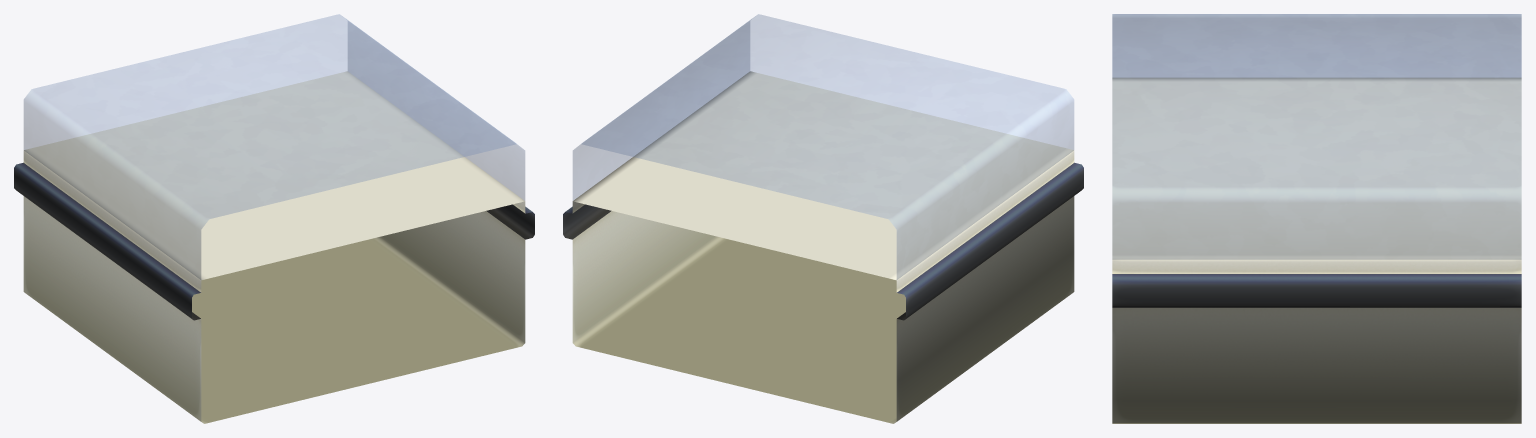
Rendered from Vitrine_modulaire_4_LP.fbx.
3 views of the same model, side by side, from view 1: azimuth 30°, elevation 25°; view 2: azimuth 150°, elevation 25°; view 3: azimuth 270°, elevation 25° (orthographic). The views are drawn at different scales.
Parts seen in each view (by area): view 1: Vitrine modulaire 4; view 2: Vitrine modulaire 4; view 3: Vitrine modulaire 4.
Boxes of the visible parts, box(x1,y1,x2,y2) form: Vitrine modulaire 4: box(14, 14, 534, 423); Vitrine modulaire 4: box(563, 14, 1083, 423); Vitrine modulaire 4: box(1112, 14, 1521, 423).
Size of the model in its own units: 106 by 60 by 95.
